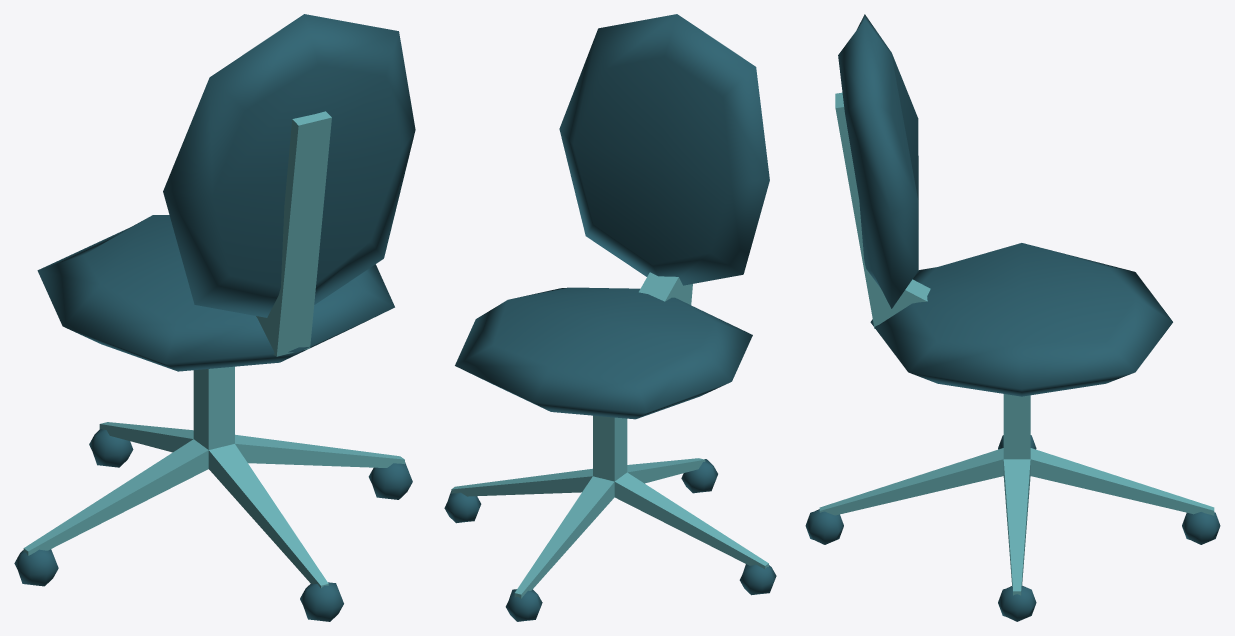
The model's file is Chair.fbx.
3 views of the same model, side by side, from view 1: azimuth 30°, elevation 25°; view 2: azimuth 150°, elevation 25°; view 3: azimuth 270°, elevation 25° (orthographic). The views are drawn at different scales.
Parts seen in each view (by area): view 1: pCube18; view 2: pCube18; view 3: pCube18.
Boxes of the visible parts, box(x1,y1,x2,y2) form: pCube18: box(14, 14, 415, 621); pCube18: box(444, 14, 776, 621); pCube18: box(805, 14, 1220, 621).
Bounding box in the file's own units: 1.64 × 2.36 × 1.68.
